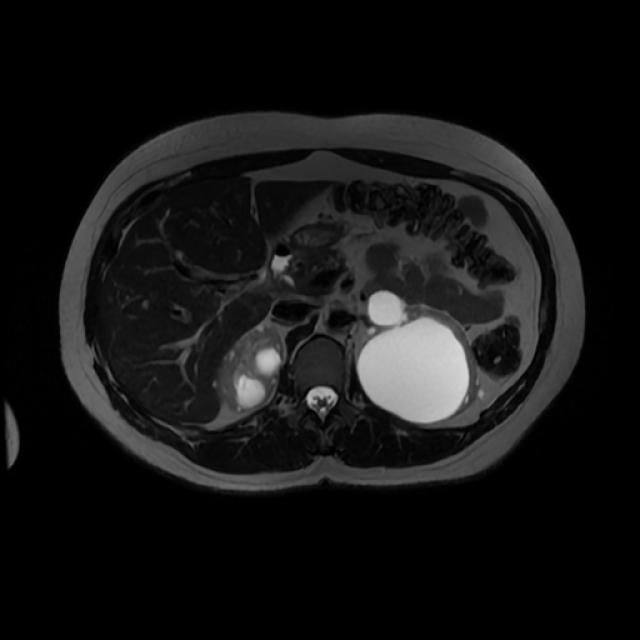sag: (215, 324, 285, 416)
sol: (356, 289, 480, 424)
